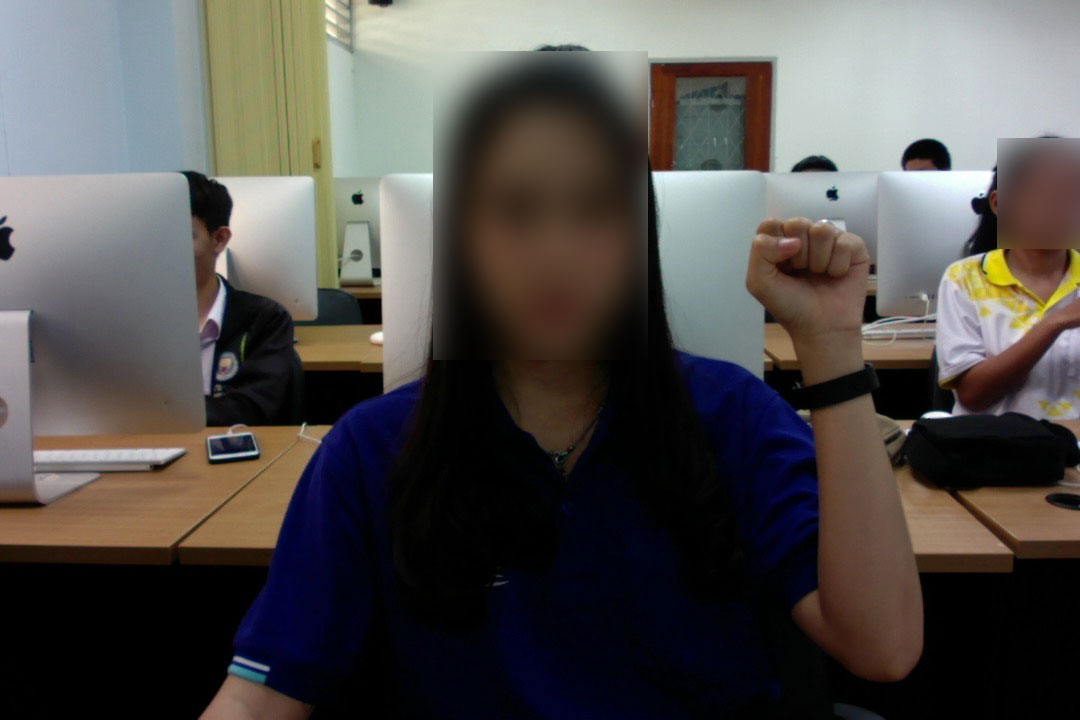sor: (741, 208, 871, 353)
